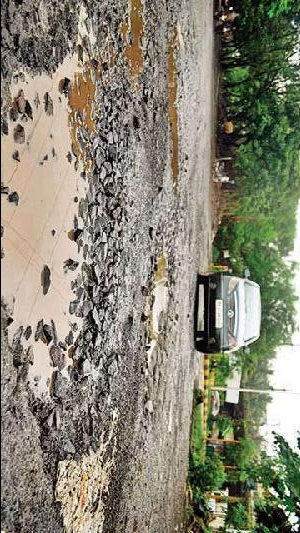pothole: (1, 0, 127, 468), (141, 242, 178, 366), (161, 35, 182, 193), (123, 0, 152, 100)
